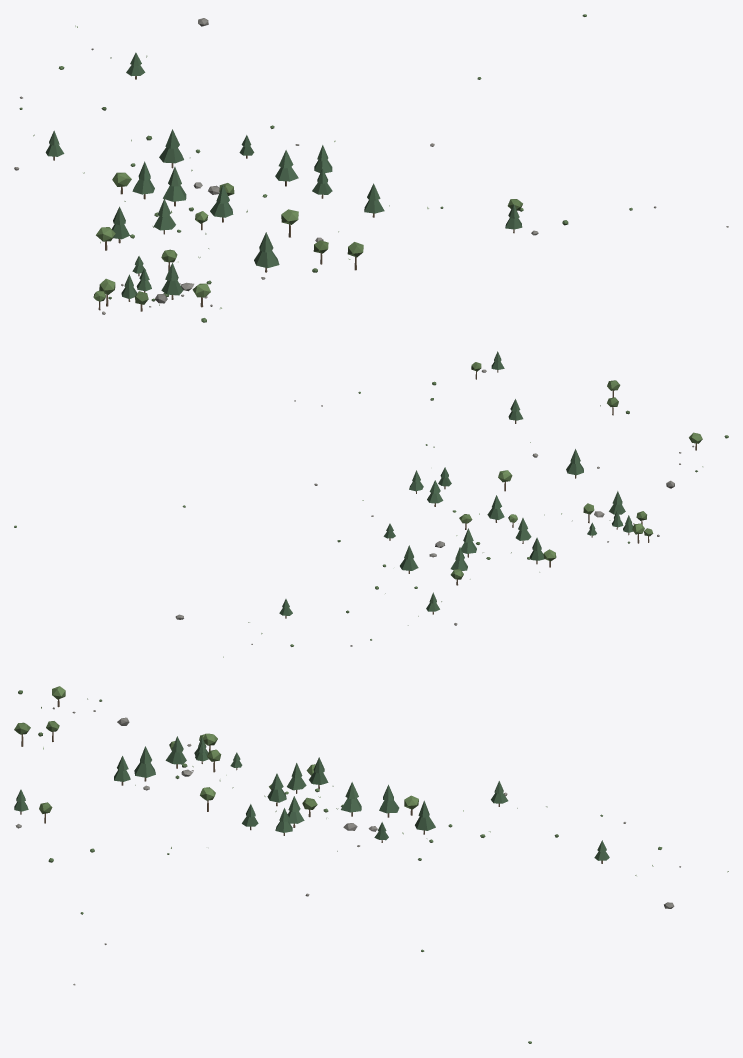
File: arch_land_scatter_c18_17_lod1.glb
3 renders of one model, top to bottom at view 1: azimuth 30°, elevation 25°; view 2: azimuth 150°, elevation 25°; view 3: azimuth 270°, elevation 25°, orthographic. The views are drawn at different scales.
Parts seen in each view (by area): view 1: arch_land_scatter_c18_17_lod1; view 2: arch_land_scatter_c18_17_lod1; view 3: arch_land_scatter_c18_17_lod1.
Boxes of the visible parts, left/top/right/bottom form: arch_land_scatter_c18_17_lod1: left=14, top=14, right=728, bottom=322; arch_land_scatter_c18_17_lod1: left=14, top=351, right=728, bottom=657; arch_land_scatter_c18_17_lod1: left=14, top=686, right=728, bottom=1043.
Size of the model in its own units: 244 by 39.52 by 253.
